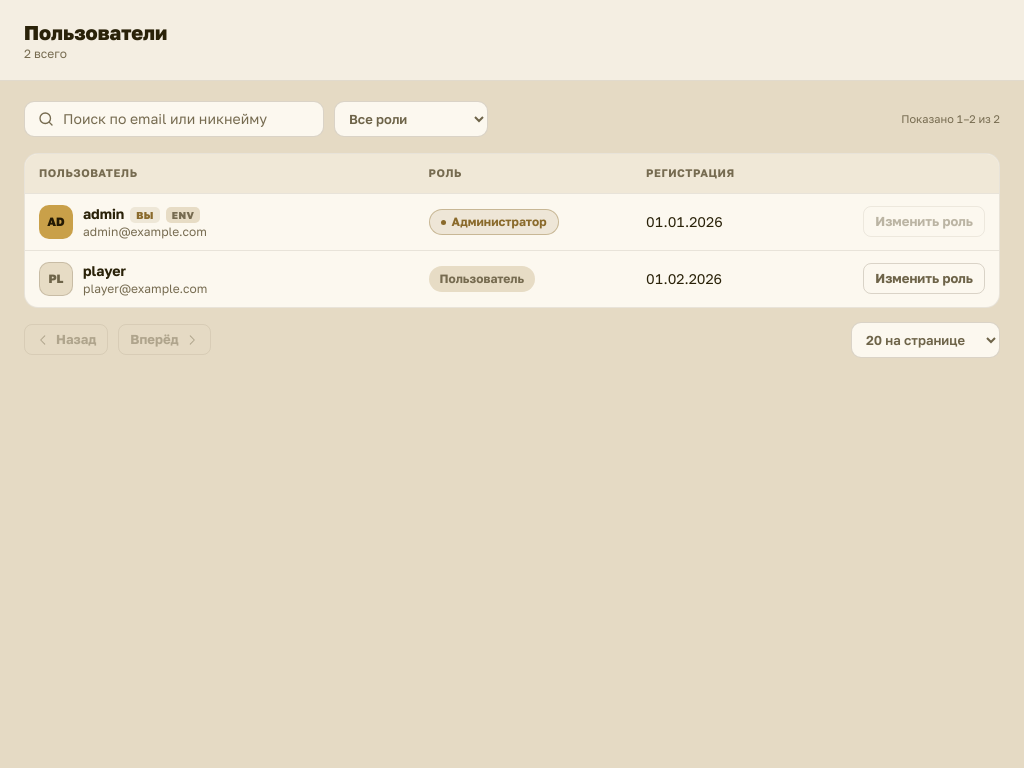
it: AdminUsersPage › confirms role change for editable user
The width and height of the screenshot is (1024, 768).
Expected: the text "player@example.com" is shown, [83,280,207,296]
Expected: the row that starts with "player" is shown, [25,250,999,306]
Click the button "Изменить роль" in the row of "player@example.com": (924, 278) [863,263,985,294]
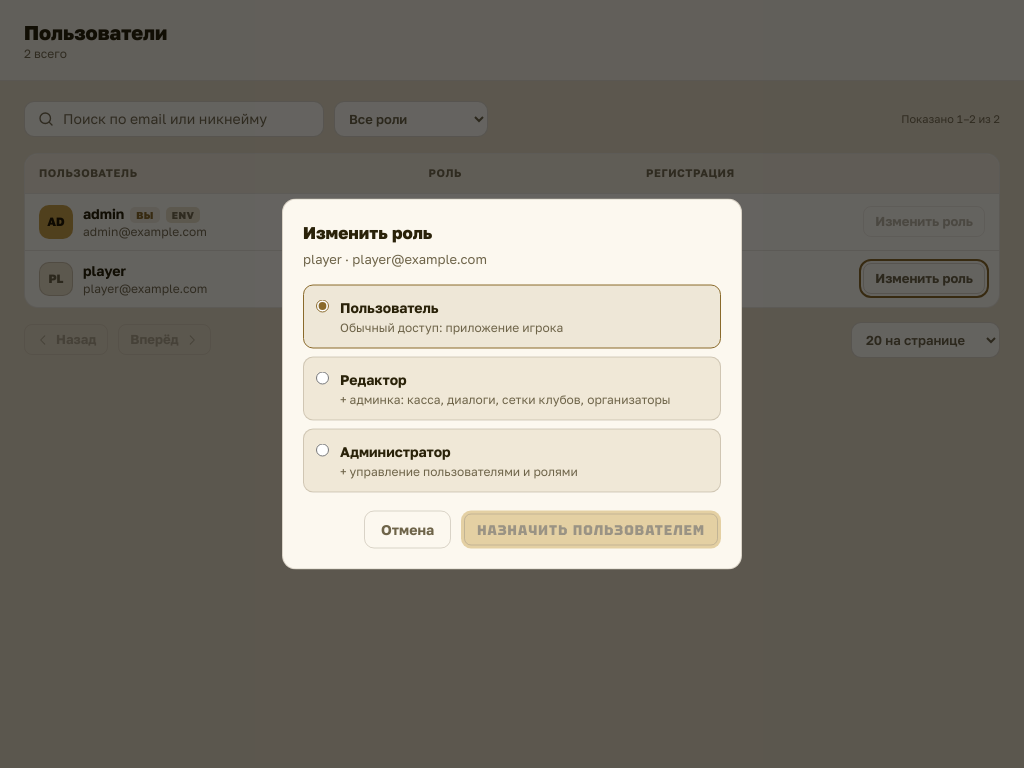
Now the dialog is shown, box [282,198,742,570]
Click the radio button labelled "Редактор": (322, 378) [316,372,329,384]
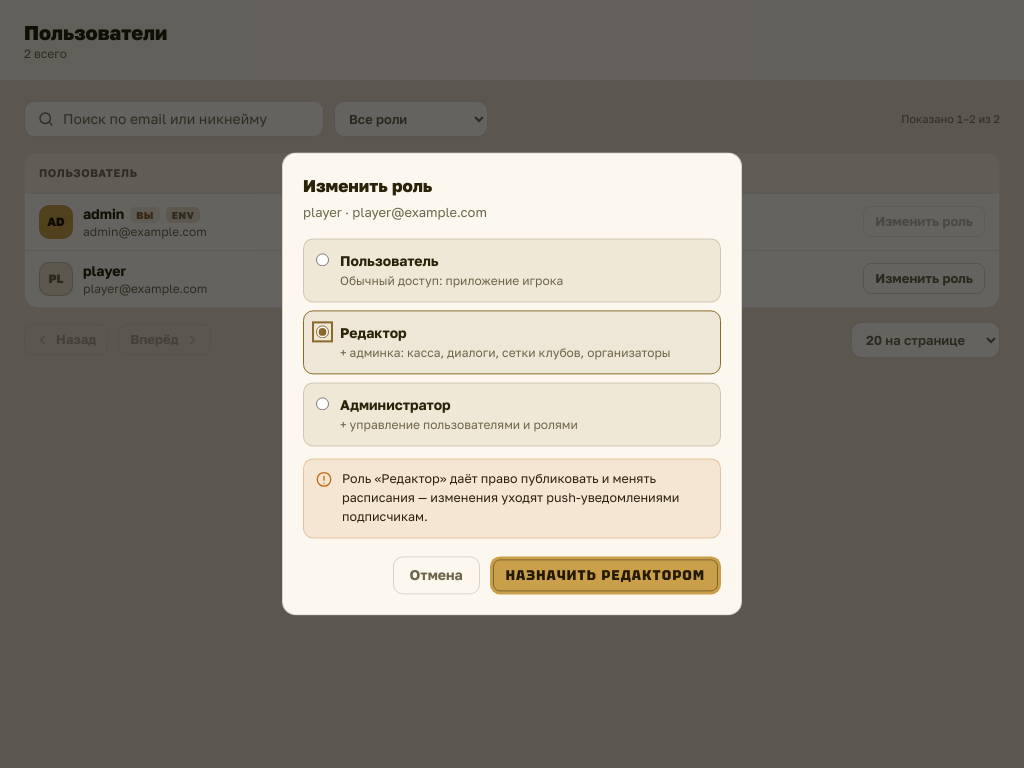
Click the button "Назначить редактором": (605, 576) [490,557,721,595]
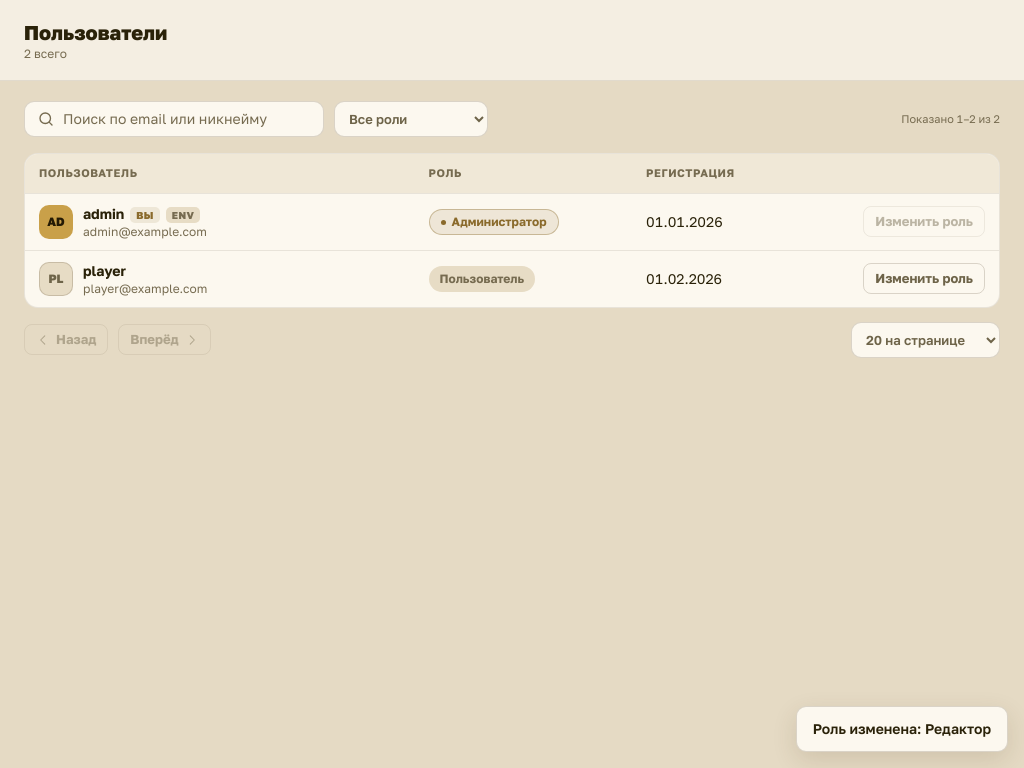
Now the message with test id "admin-toast" shows "Роль изменена", box [813,720,991,737]
